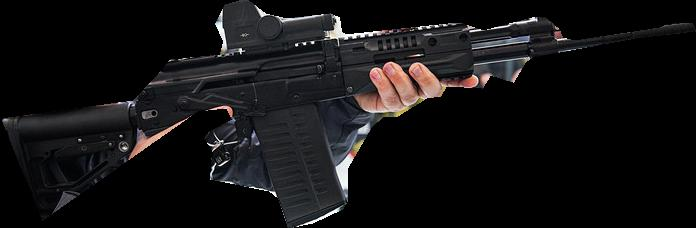gun: (1, 0, 696, 228)
